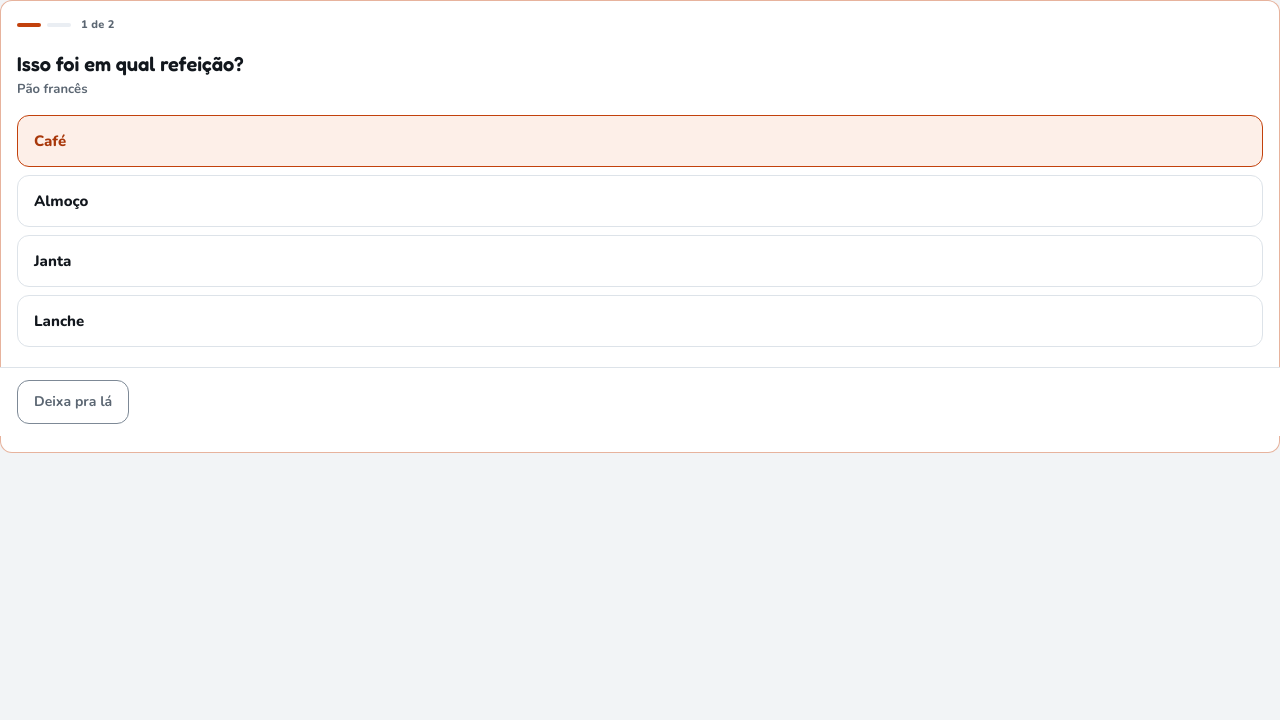
Scenario: MealEditor › oferece porções em linguagem de gente, não gramas
Click the button "Café": coordinates (50, 141) [17,115,1263,167]
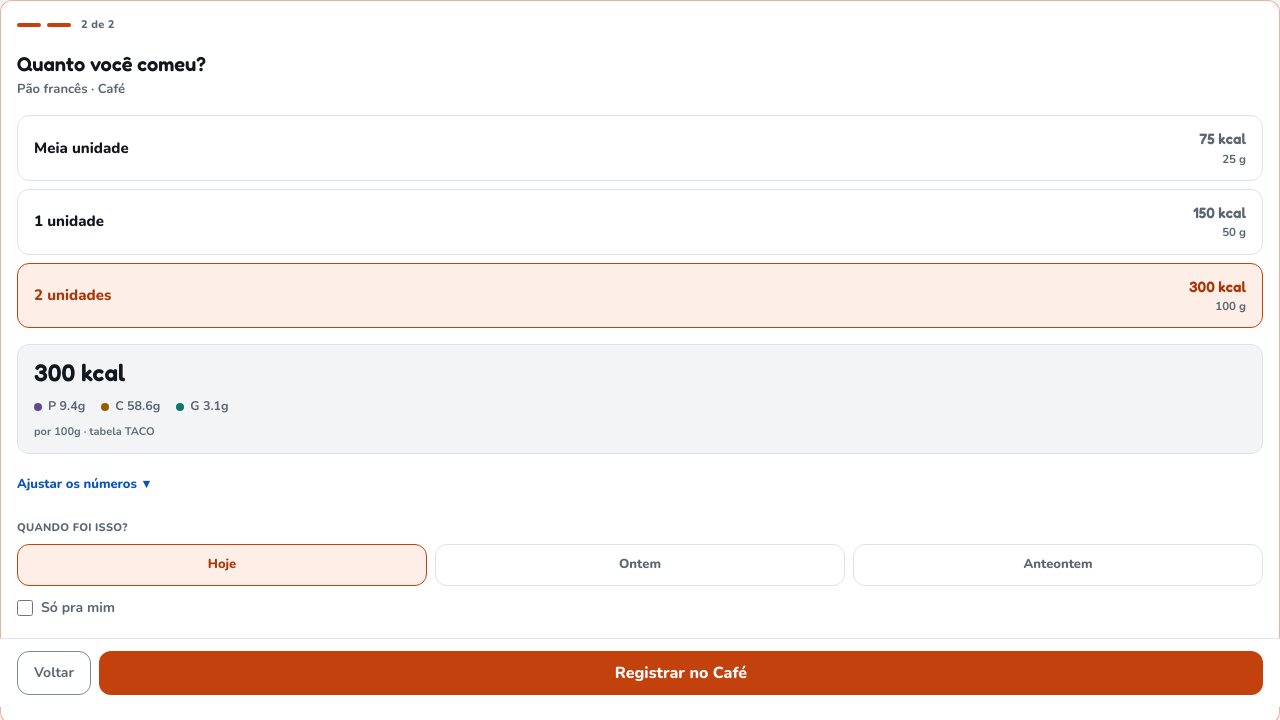
expect the button "1 unidade 150 kcal 50 g" is shown: met, box [17,189,1263,255]
expect the button "2 unidades 300 kcal 100 g" is shown: met, box [17,262,1263,328]
